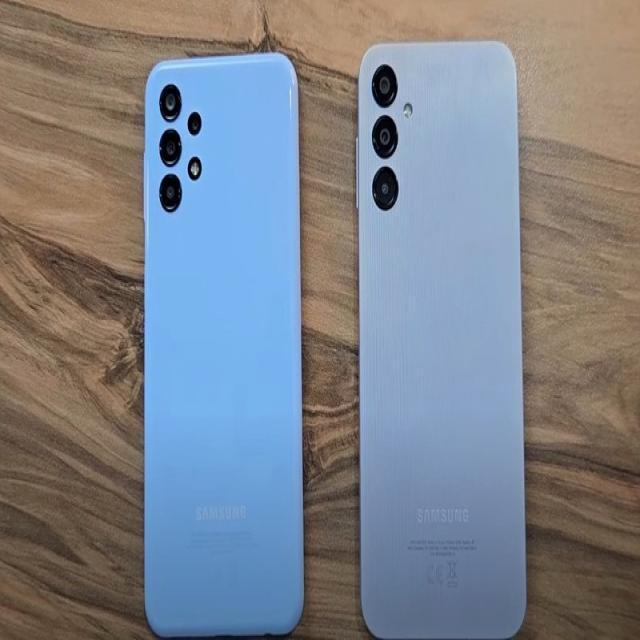phone: (353, 40, 528, 639), (144, 51, 304, 638)
